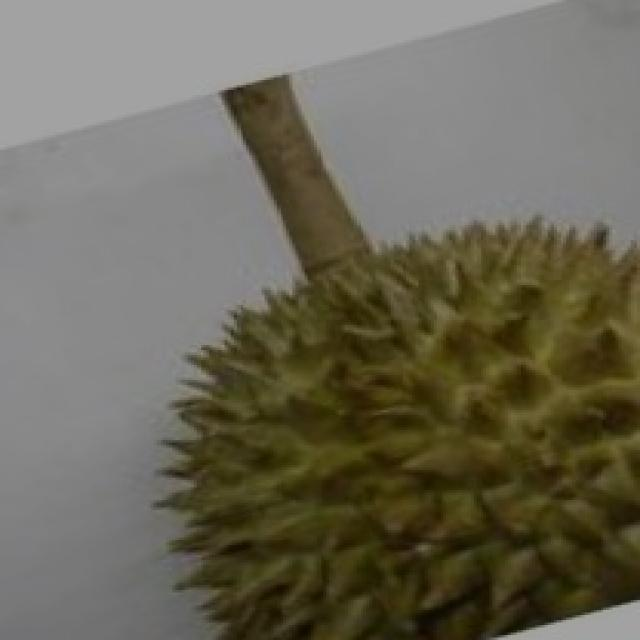fruit: (108, 215, 455, 640)
